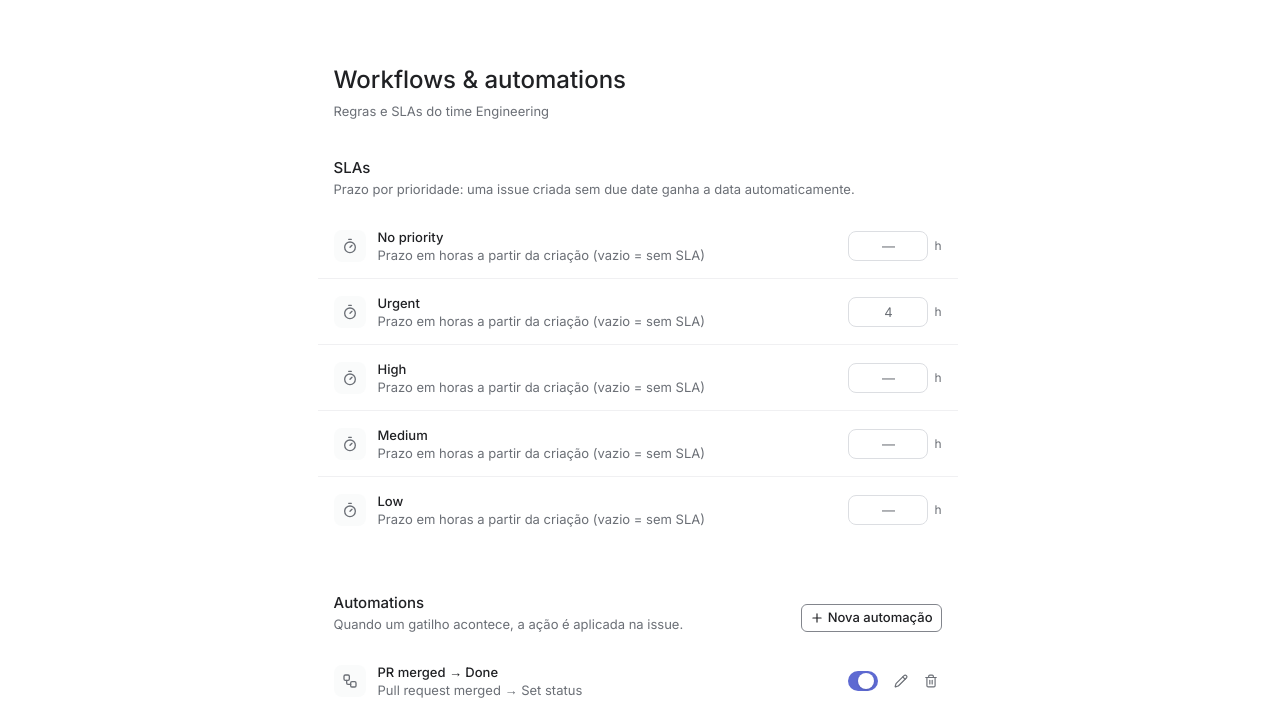
Scenario: Team settings → Workflows & automations (#97) › cria uma automação pelo dialog (gatilho + ação + parâmetro)
expect the text "PR merged → Done" is shown: met, box [378,664,498,680]
Click the button "Nova automação": click(871, 618) [801,604,942,632]
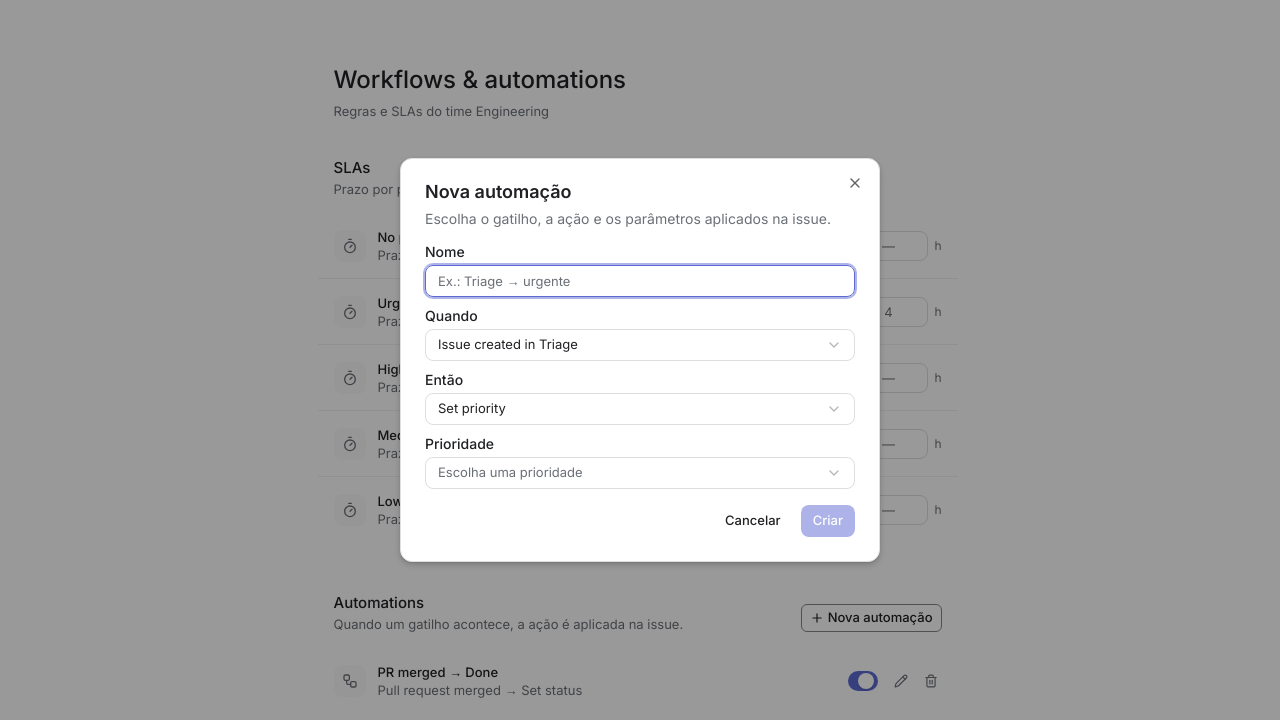
In the field labelled "Nome": (640, 281) [425,265,855,297], type "Triage → urgente"
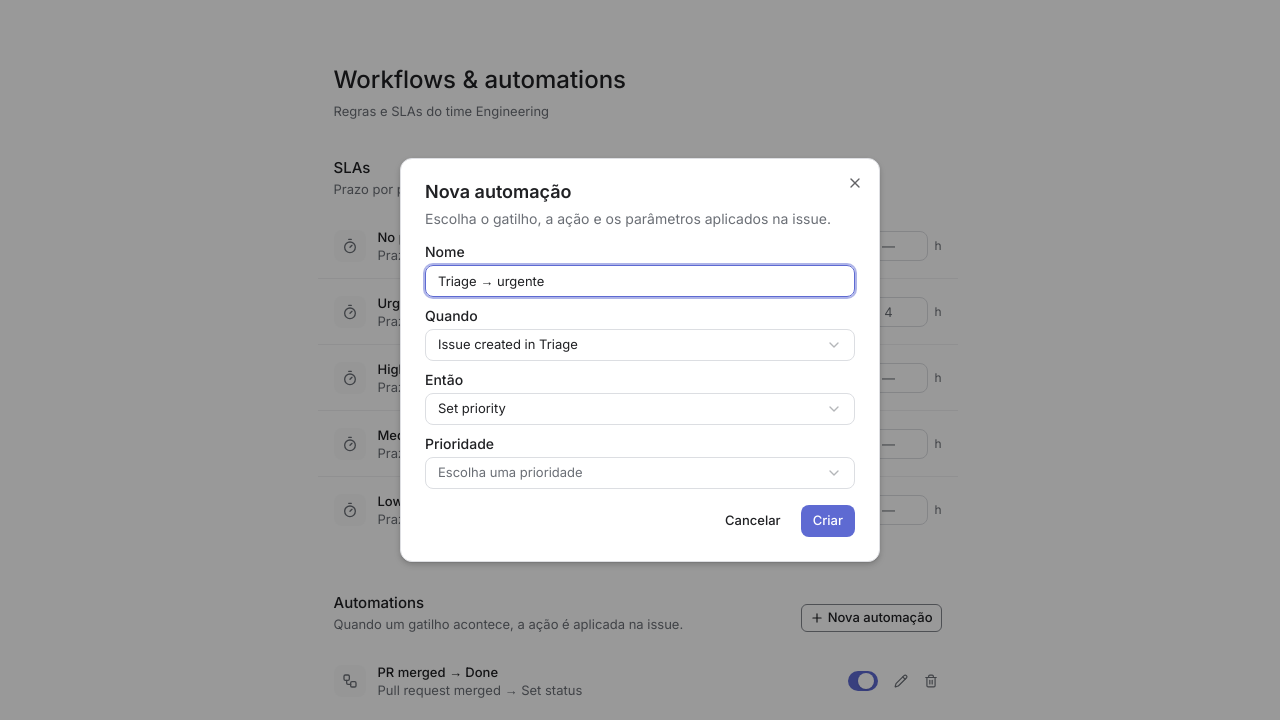
Note: Gatilho e ação já vêm no default do dialog (triage + set priority).
Click the dropdown named "Priority": click(510, 472) [425,457,855,489]
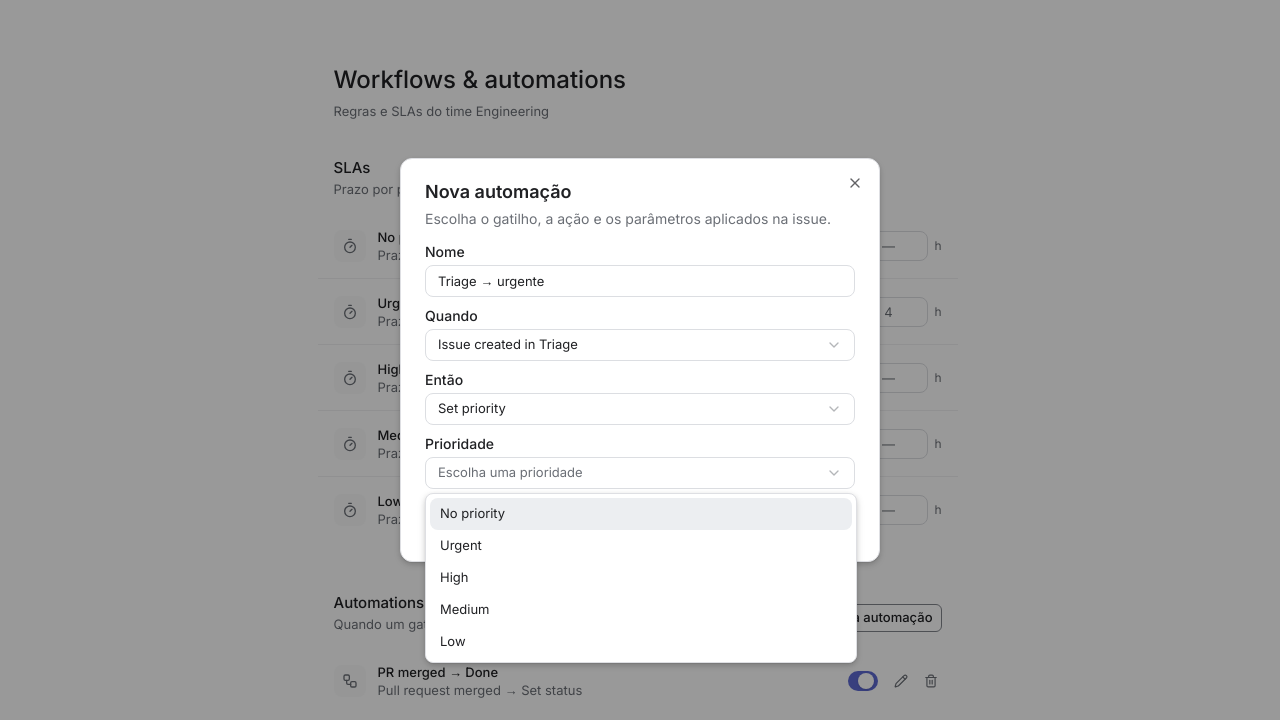
Click the option "Urgent": click(461, 545) [440,537,482,553]
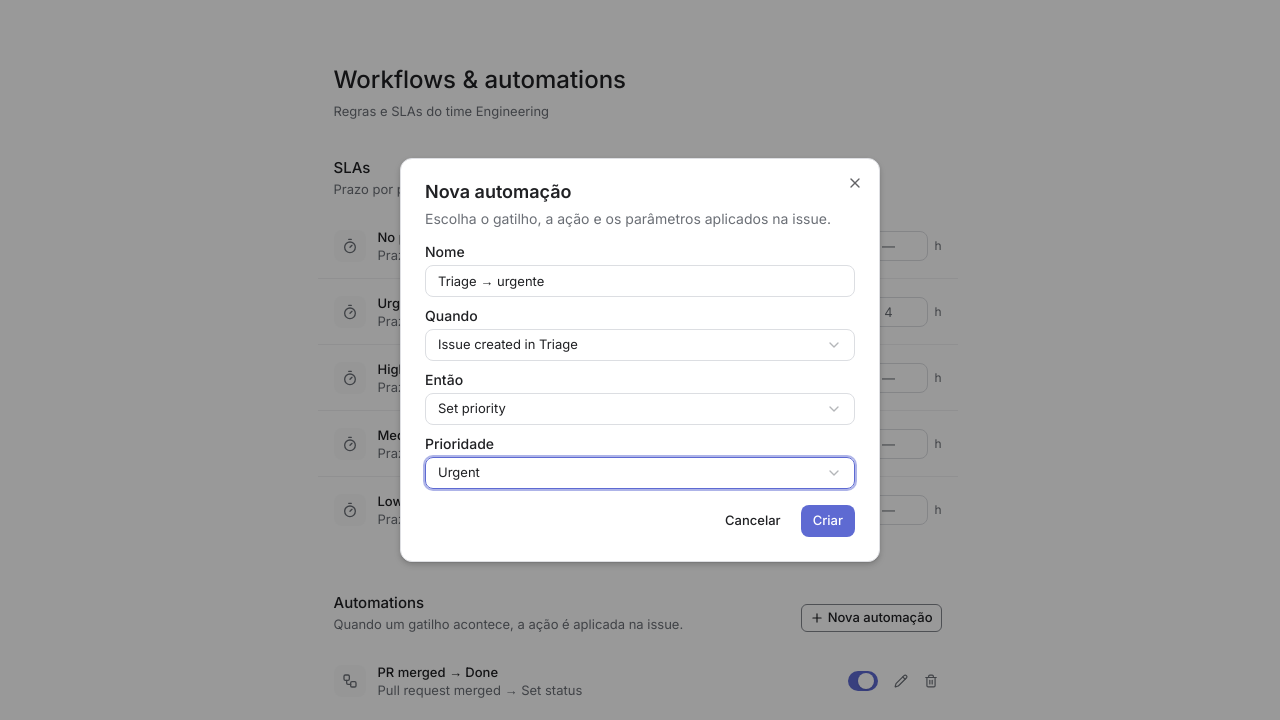
Click the button "Criar": click(828, 521) [801,505,855,537]
(page scrolled)
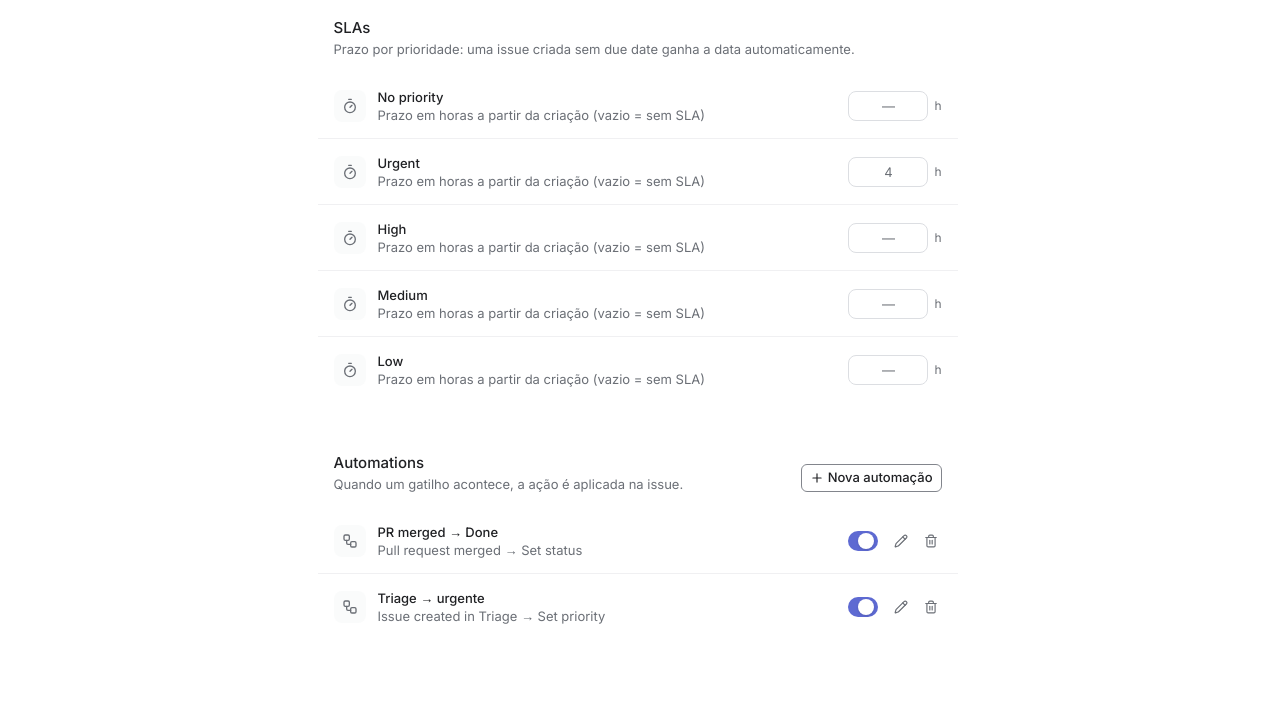
expect the text "Triage → urgente" is shown: met, box [378,590,485,606]
